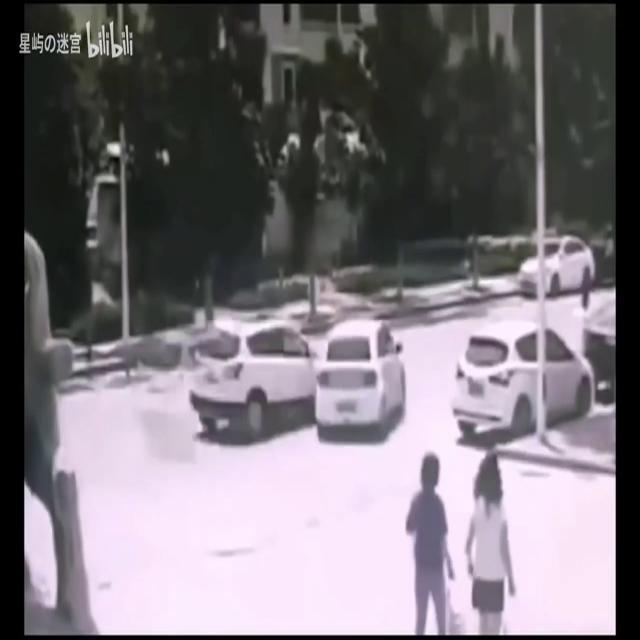accident: (190, 322, 404, 442)
